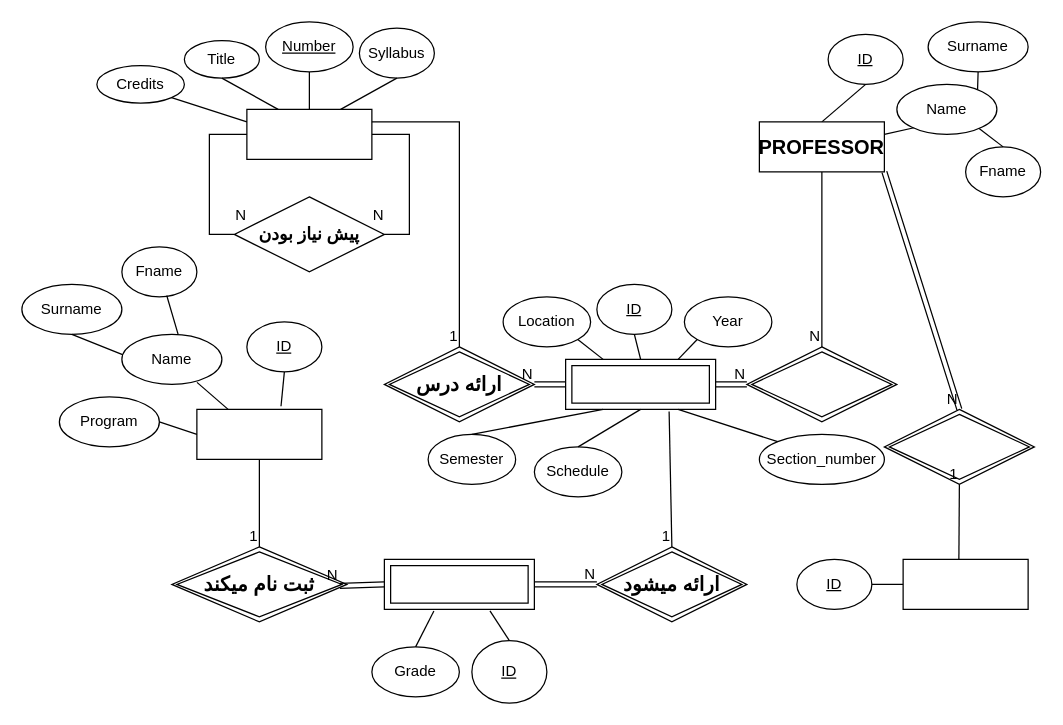
The diagram is 1063 pixels wide and 725 high, and some of its shapes have lost their labels. Each missing label, with the centre of its shape:
COURSE: the point at 309,133
COURSE_OFFERING: the point at 640,383
DEPARTMENT: the point at 965,583
ENROLLMENT: the point at 458,583
STUDENT: the point at 259,433
استخدام: the point at 958,446
تدریس: the point at 821,384
